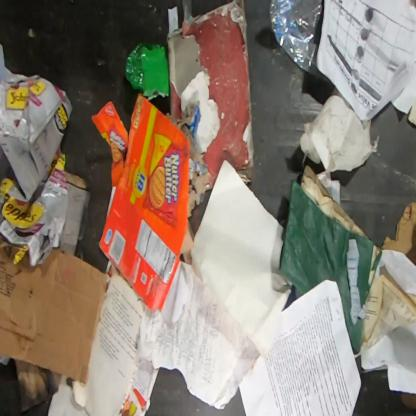cardboard: (91, 93, 191, 313), (280, 166, 381, 354), (168, 1, 254, 219), (0, 234, 111, 384), (0, 43, 73, 266), (59, 169, 91, 255), (14, 359, 62, 411), (383, 201, 415, 268)
rigid_plastic: (125, 42, 169, 101)
soft_plastic: (270, 0, 332, 86)
